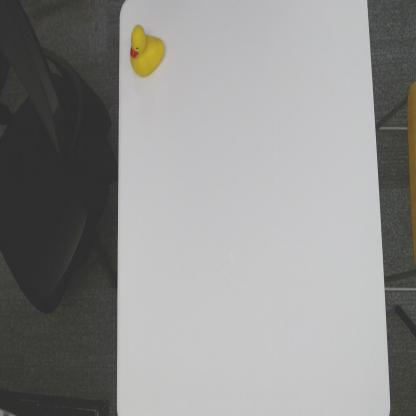Duck: (129, 20, 166, 79)
